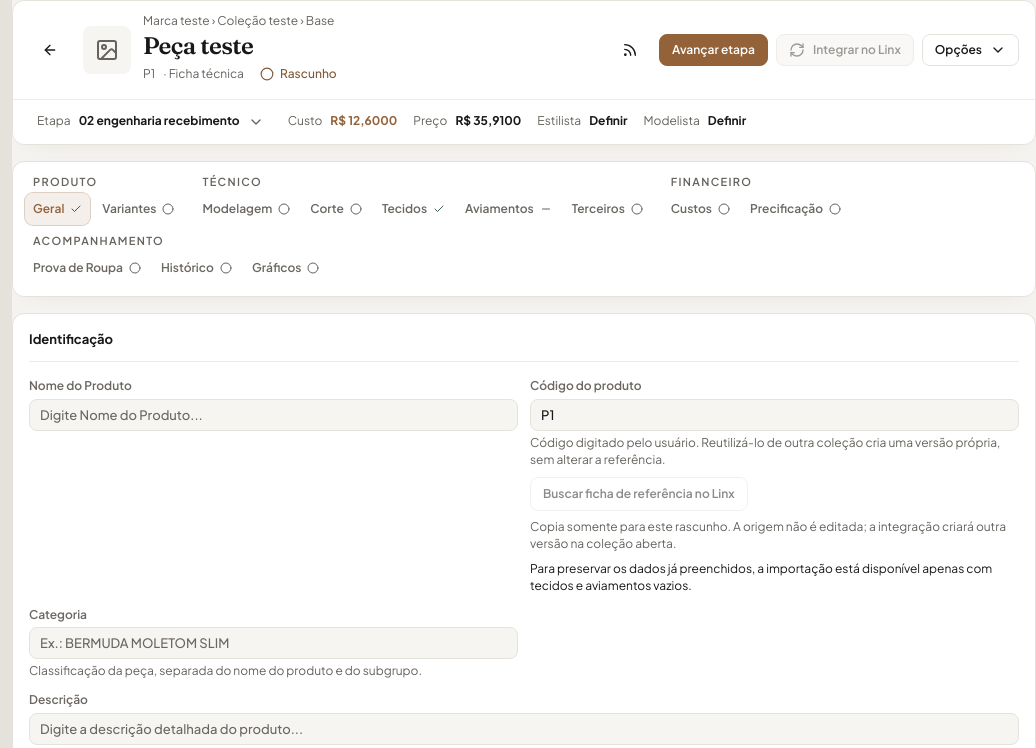
Test: Avanço sequencial da ficha › falha ao salvar mantém a etapa anterior
This screenshot has width=1036, height=748.
Click the button "Avançar etapa".
click(714, 50)  # box left=659, top=34, right=768, bottom=66
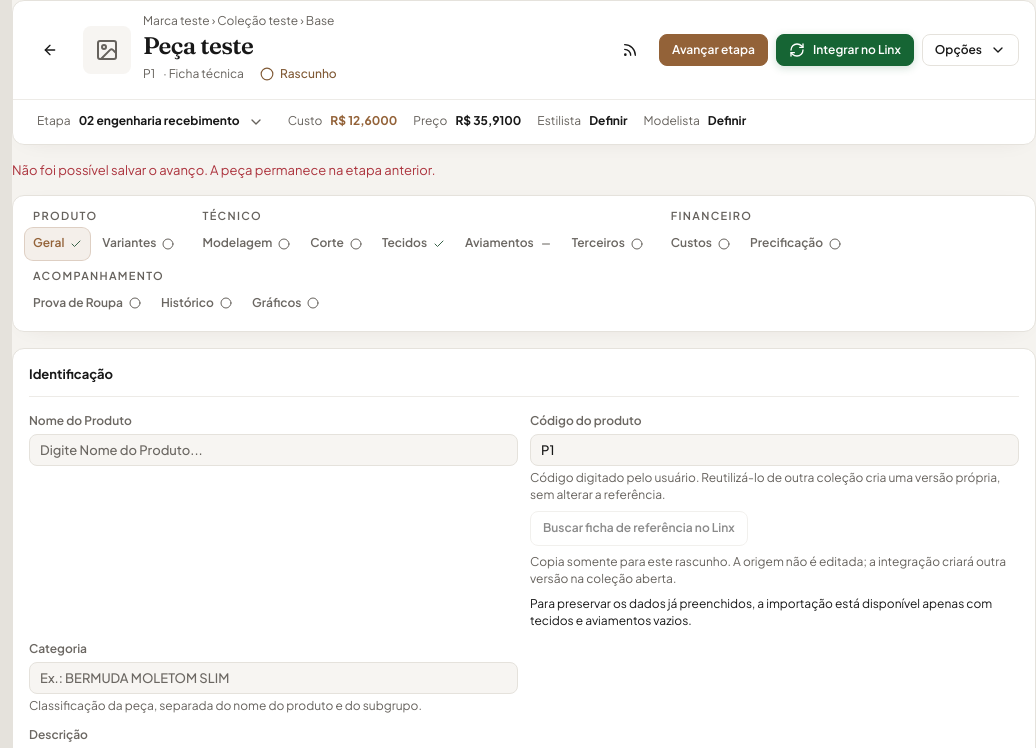
Expected: the text "Não foi possível salvar o avanço. A peça permanece na etapa anterior." is shown, left=12, top=162, right=435, bottom=178
